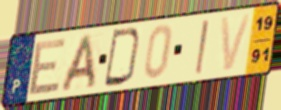0: (142, 22, 175, 82)
A: (58, 33, 97, 94)
D: (102, 27, 143, 89)
E: (26, 36, 68, 98)
I: (194, 17, 211, 76)
V: (219, 12, 254, 73)
